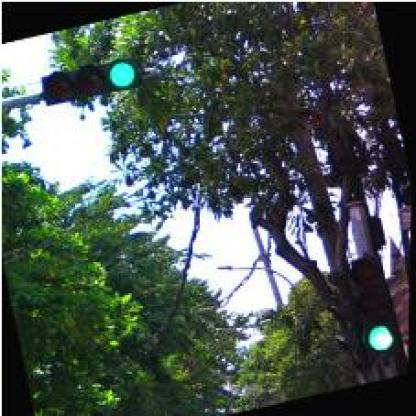green: (347, 254, 408, 362), (38, 52, 145, 106)
